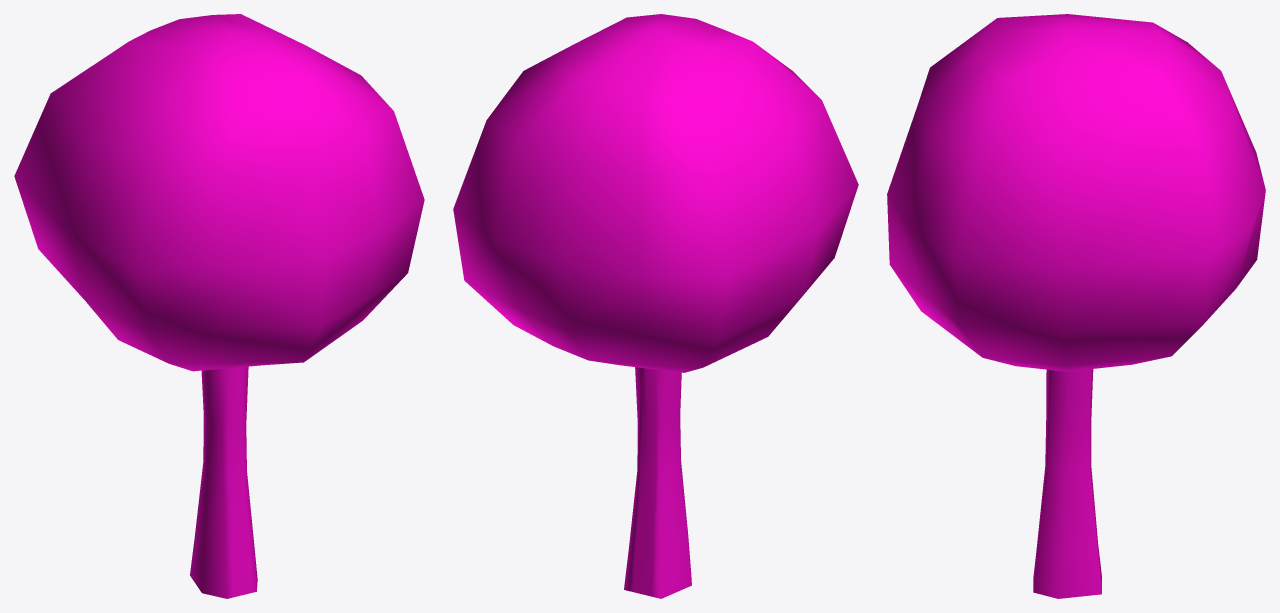
File: Arbol 2.fbx
The picture shows the model from 3 angles, left to right: view 1: azimuth 30°, elevation 25°; view 2: azimuth 150°, elevation 25°; view 3: azimuth 270°, elevation 25°; orthographic projection. The views are drawn at different scales.
Parts seen in each view (by area): view 1: Arbol_2_Low; view 2: Arbol_2_Low; view 3: Arbol_2_Low.
Boxes of the visible parts, x1=… form: Arbol_2_Low: x1=14, y1=14, x2=424, y2=598; Arbol_2_Low: x1=453, y1=14, x2=858, y2=598; Arbol_2_Low: x1=887, y1=14, x2=1265, y2=598.
Bounding box in the file's own units: 397 × 657 × 402.
